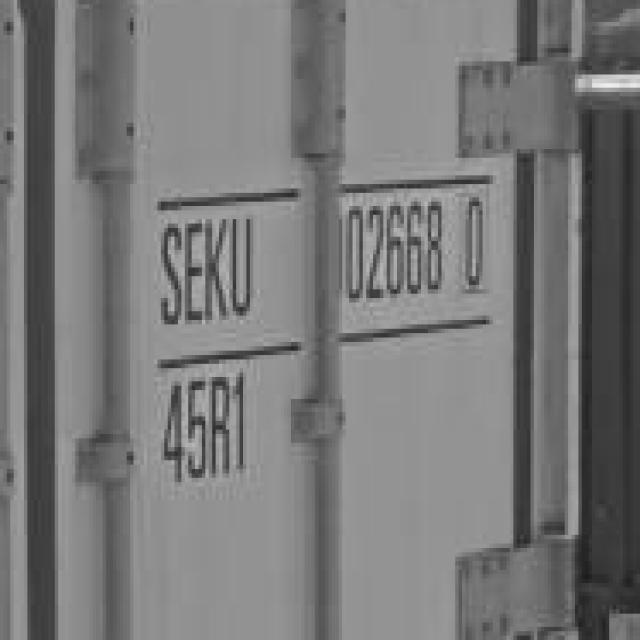dv: (456, 189, 493, 302)
owner: (147, 214, 259, 330)
serial: (332, 196, 447, 306)
size: (141, 367, 256, 489)
